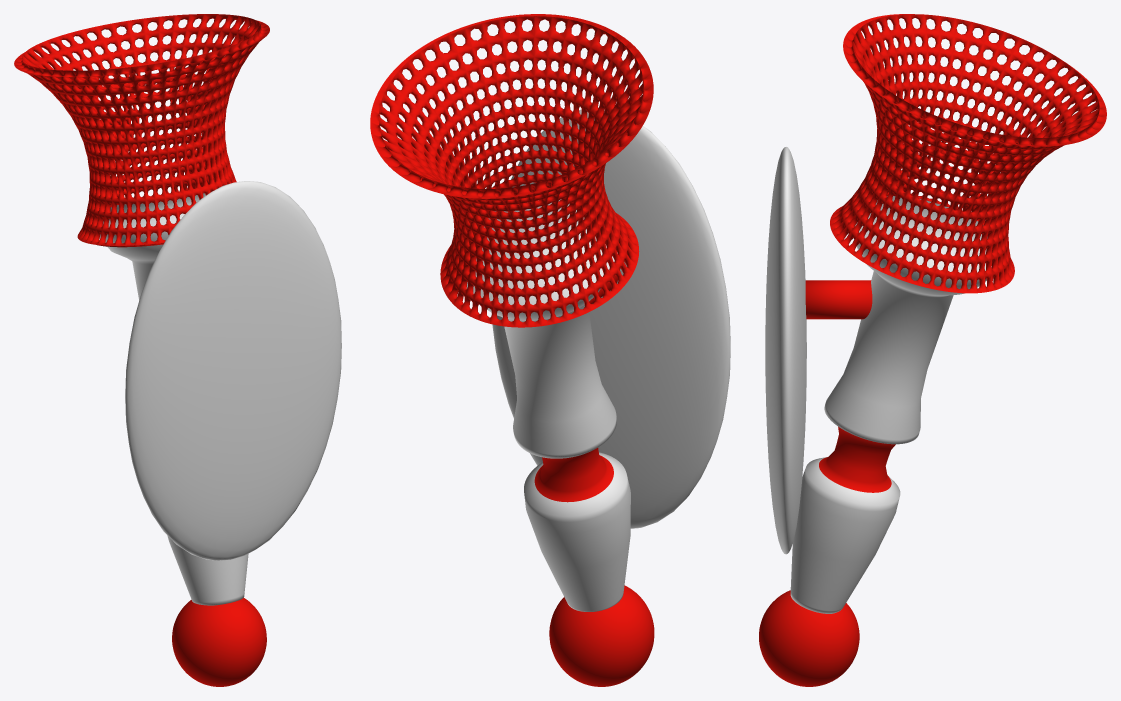
Rendered from Torch.fbx.
3 renders of one model, left to right at view 1: azimuth 30°, elevation 25°; view 2: azimuth 150°, elevation 25°; view 3: azimuth 270°, elevation 25°, orthographic. The views are drawn at different scales.
Parts seen in each view (by area): view 1: Icosphere; view 2: Icosphere; view 3: Icosphere.
Boxes of the visible parts, x1=… form: Icosphere: x1=14, y1=14, x2=341, y2=686; Icosphere: x1=370, y1=14, x2=730, y2=686; Icosphere: x1=759, y1=14, x2=1106, y2=686.
Size of the model in its own units: 63.12 by 48.72 by 128.
